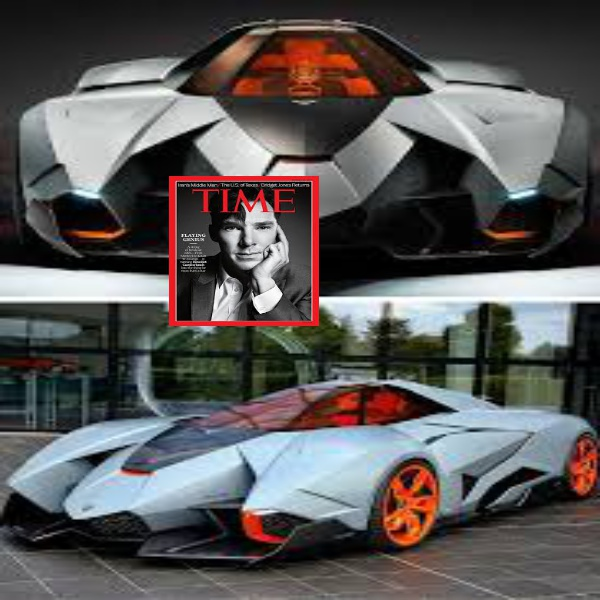time_cover: (158, 165, 333, 341)
